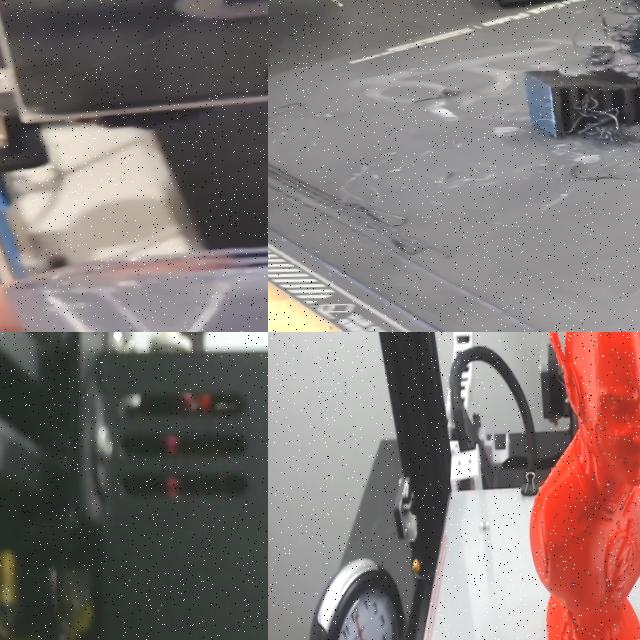spaghetti: (558, 0, 640, 154)
